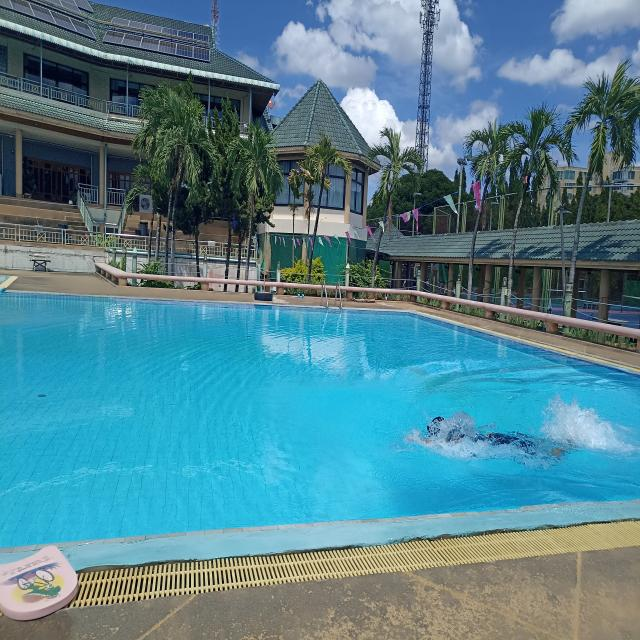Swimming: (411, 406, 595, 482)
